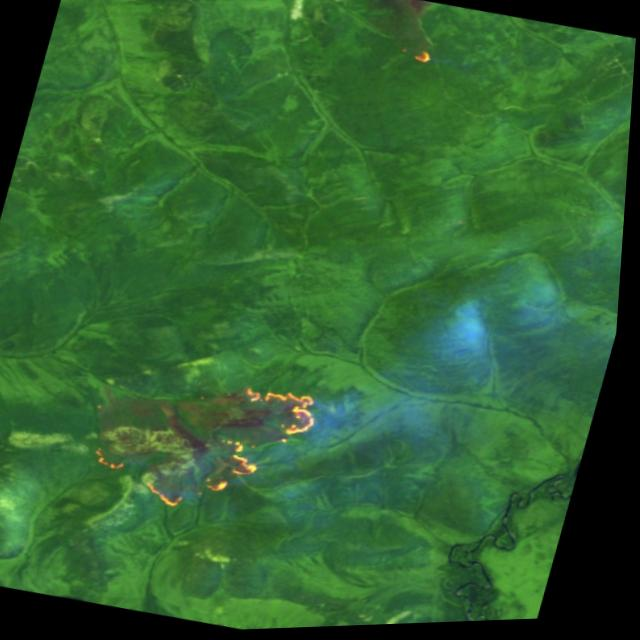fire: (80, 347, 341, 532), (390, 42, 441, 72)
